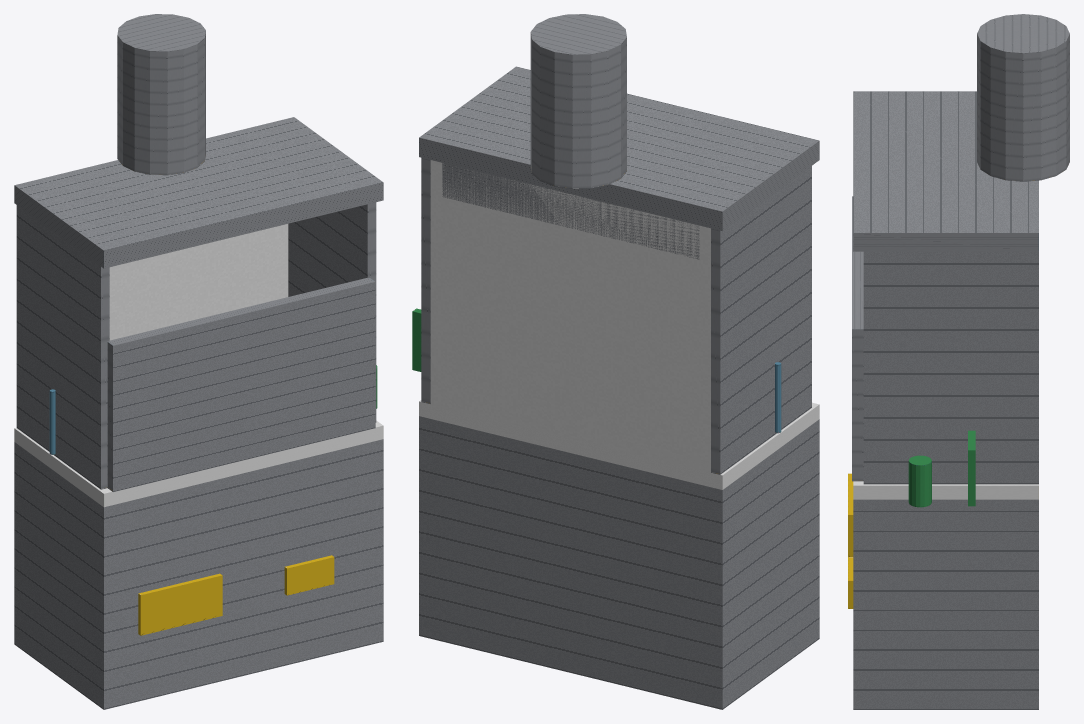
The model's file is prop_fume_hood.glb.
3 views of the same model, side by side, from view 1: azimuth 30°, elevation 25°; view 2: azimuth 150°, elevation 25°; view 3: azimuth 270°, elevation 25° (orthographic). The views are drawn at different scales.
Parts seen in each view (by area): view 1: Prop_Fume_Hood; view 2: Prop_Fume_Hood; view 3: Prop_Fume_Hood.
Part boxes in pixels (x1=…): Prop_Fume_Hood: x1=14, y1=14, x2=383, y2=709; Prop_Fume_Hood: x1=412, y1=14, x2=819, y2=709; Prop_Fume_Hood: x1=848, y1=14, x2=1069, y2=709.
Bounding box in the file's own units: 1.51 × 2.59 × 0.86.
Materials: 1 (1 with a texture image).
